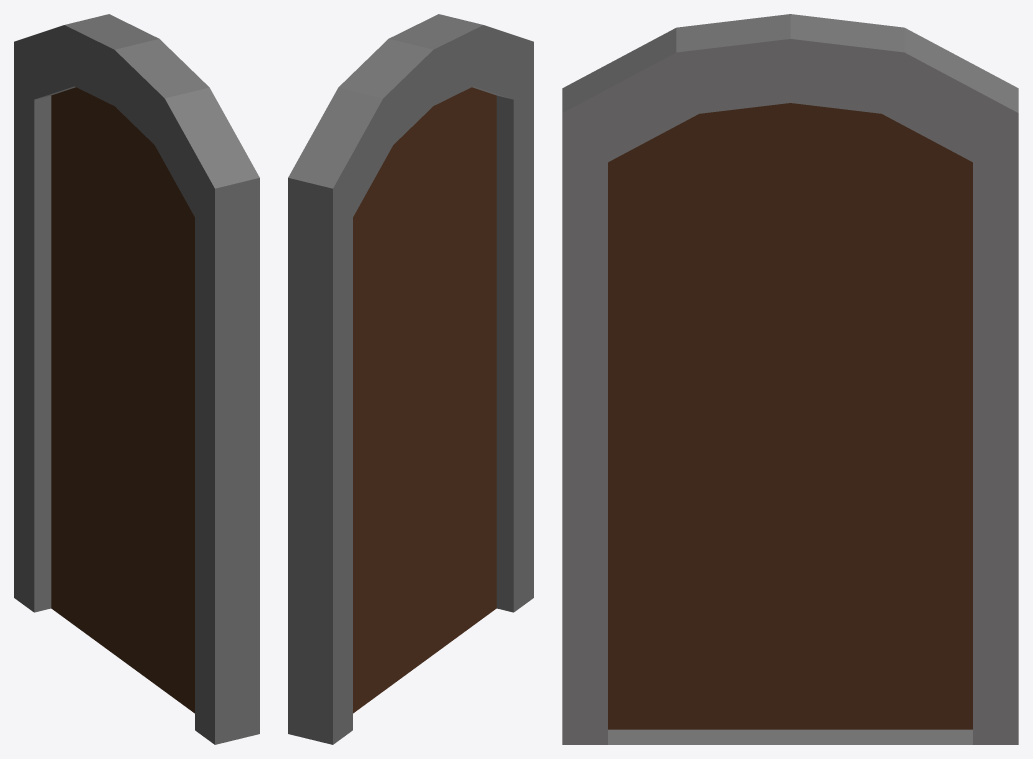
The model's file is Door.fbx.
The picture shows the model from 3 angles, left to right: view 1: azimuth 30°, elevation 25°; view 2: azimuth 150°, elevation 25°; view 3: azimuth 270°, elevation 25°; orthographic projection. The views are drawn at different scales.
Visible parts, largest first — view 1: Door; view 2: Door; view 3: Door.
Part boxes in pixels (left/top/right/bottom): Door: left=14, top=14, right=259, bottom=744; Door: left=288, top=14, right=533, bottom=744; Door: left=562, top=14, right=1018, bottom=744.
Size of the model in its own units: 0.0176 by 0.2331 by 0.1365.
